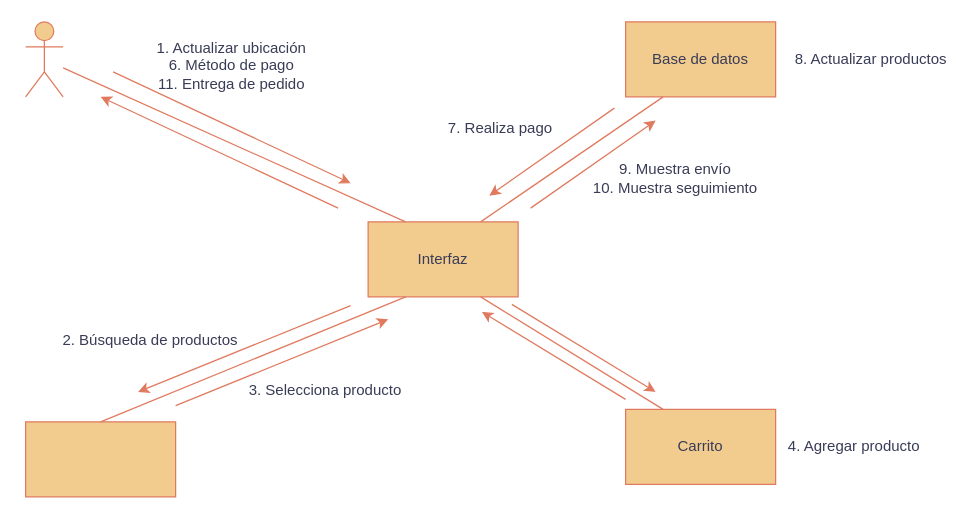
Image size: 976x519. Some labels were removed from this diagram. Here are the shapes that lost their labels. From the top down, the centre of each, then its label:
the point at 43,59: Cliente
the point at 100,459: Cajero
